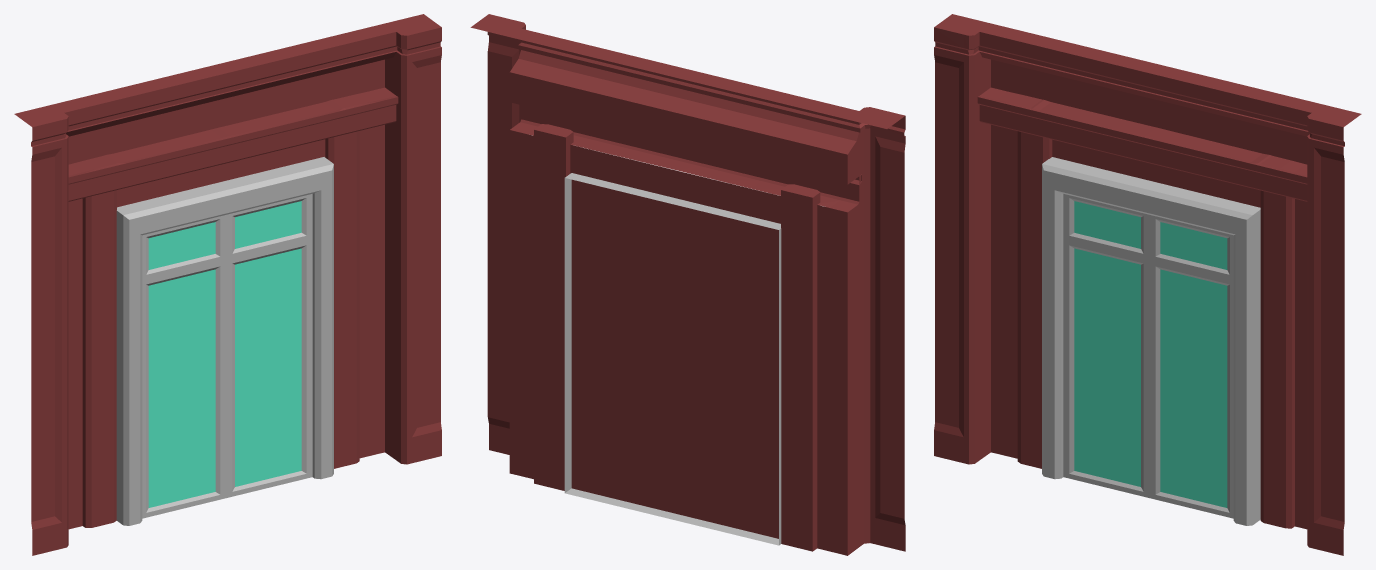
Rendered from O_V_FacadeDoor2_Down.fbx.
3 renders of one model, left to right at view 1: azimuth 30°, elevation 25°; view 2: azimuth 150°, elevation 25°; view 3: azimuth 330°, elevation 25°, orthographic.
Visible parts, largest first — view 1: O_FacadeDoor2_Down; view 2: O_FacadeDoor2_Down; view 3: O_FacadeDoor2_Down.
Part boxes in pixels (x1,y1,x2,y2): O_FacadeDoor2_Down: (14,14,441,555); O_FacadeDoor2_Down: (470,14,905,555); O_FacadeDoor2_Down: (934,14,1361,555).
Size of the model in its own units: 6.5 by 6.5 by 0.6868.
